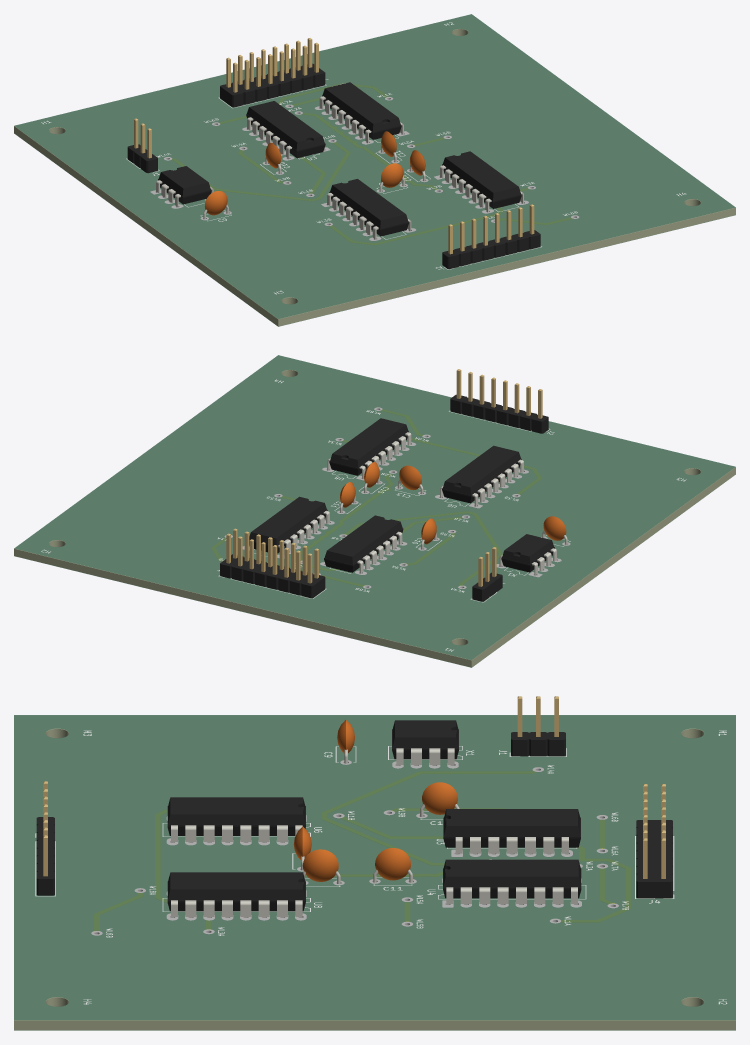
The model's file is vinyl_adc_digital.glb.
3 views of the same model, one above another, from view 1: azimuth 30°, elevation 25°; view 2: azimuth 150°, elevation 25°; view 3: azimuth 270°, elevation 25° (orthographic). The views are drawn at different scales.
Parts seen in each view (by area): view 1: =>[0:1:1:19], =>[0:1:1:21], =>[0:1:1:5] (×3), =>[0:1:1:15], =>[0:1:1:13], =>[0:1:1:11], =>[0:1:1:17], =>[0:1:1:16], =>[0:1:1:9], =>[0:1:1:18], =>[0:1:1:3], =>[0:1:1:20]; view 2: =>[0:1:1:19], =>[0:1:1:21], =>[0:1:1:5] (×3), =>[0:1:1:15], =>[0:1:1:13], =>[0:1:1:11], =>[0:1:1:17], =>[0:1:1:9], =>[0:1:1:16], =>[0:1:1:18], =>[0:1:1:3], =>[0:1:1:20] (+1 smaller); view 3: =>[0:1:1:19], =>[0:1:1:21], =>[0:1:1:5] (×3), =>[0:1:1:11], =>[0:1:1:15], =>[0:1:1:7] (×3), =>[0:1:1:16], =>[0:1:1:9], =>[0:1:1:17], =>[0:1:1:18], =>[0:1:1:3], =>[0:1:1:13] (+1 smaller).
Boxes of the visible parts, x1,y1,x2,y2 form: =>[0:1:1:19]: (14, 14, 735, 318); =>[0:1:1:21]: (14, 15, 735, 326); =>[0:1:1:5] (×3): (319, 82, 523, 239); =>[0:1:1:15]: (220, 38, 325, 107); =>[0:1:1:13]: (442, 204, 540, 269); =>[0:1:1:11]: (246, 101, 325, 159); =>[0:1:1:17]: (150, 97, 579, 240); =>[0:1:1:16]: (172, 85, 571, 244); =>[0:1:1:9]: (156, 166, 213, 207); =>[0:1:1:18]: (41, 22, 686, 294); =>[0:1:1:3]: (127, 118, 157, 173); =>[0:1:1:20]: (14, 133, 735, 326); =>[0:1:1:19]: (14, 355, 735, 659); =>[0:1:1:21]: (14, 356, 735, 667); =>[0:1:1:5] (×3): (249, 418, 523, 554); =>[0:1:1:15]: (220, 528, 325, 598); =>[0:1:1:13]: (450, 369, 548, 433); =>[0:1:1:11]: (324, 515, 403, 573); =>[0:1:1:17]: (224, 407, 570, 588); =>[0:1:1:9]: (499, 534, 556, 575); =>[0:1:1:16]: (212, 410, 541, 586); =>[0:1:1:18]: (41, 379, 686, 651); =>[0:1:1:3]: (472, 547, 502, 601); =>[0:1:1:20]: (14, 474, 735, 667); =>[0:1:1:19]: (14, 715, 735, 1020); =>[0:1:1:21]: (14, 716, 735, 1030); =>[0:1:1:5] (×3): (167, 797, 581, 917); =>[0:1:1:11]: (443, 809, 580, 854); =>[0:1:1:15]: (636, 784, 672, 898); =>[0:1:1:7] (×3): (302, 782, 459, 883); =>[0:1:1:16]: (94, 771, 630, 931); =>[0:1:1:9]: (392, 720, 458, 765); =>[0:1:1:17]: (91, 760, 618, 935); =>[0:1:1:18]: (35, 730, 727, 1004); =>[0:1:1:3]: (511, 696, 565, 756); =>[0:1:1:13]: (36, 781, 54, 895).
Size of the model in its own units: 0.1 by 0.0118 by 0.1.
